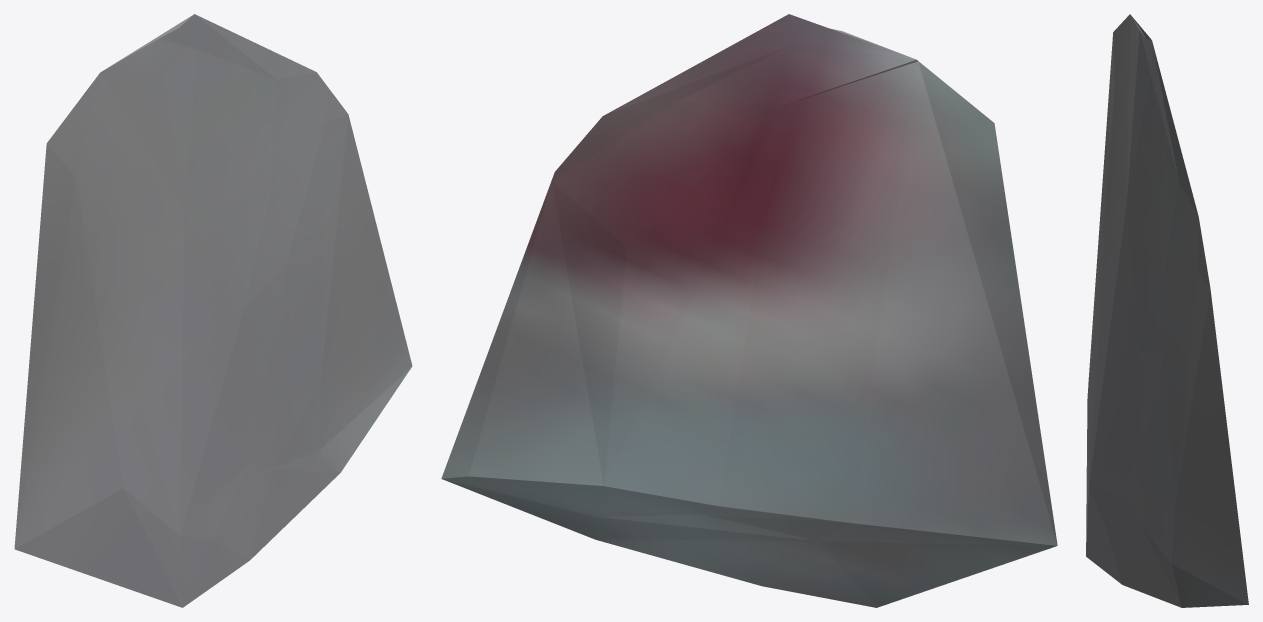
The picture shows the model from 3 angles, left to right: view 1: azimuth 30°, elevation 25°; view 2: azimuth 150°, elevation 25°; view 3: azimuth 270°, elevation 25°; orthographic projection. The views are drawn at different scales.
Bounding box in the file's own units: 0.0768 × 0.085 × 0.0233.
1 material, 1 textured.
